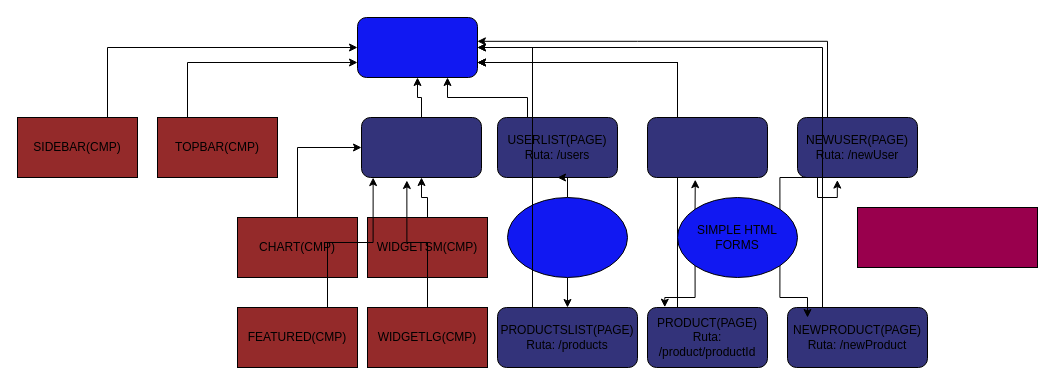
Some shapes in this 1055 by 385 pixel diagram are drawn without their labels. Here are the shapes that lost their labels. From the top down, the centre of each, then its label:
At point (417, 47): "APP+ROUTING".
At point (421, 147): "HOME(PAGE) Ruta: '/'".
At point (707, 147): "USER(PAGE) Ruta: /user/userId".
At point (567, 237): "DATA GRID FROM MATERIAL".
At point (947, 237): "USER Y PRODUCT SON REPLICAS UNO DEL OTRO".
